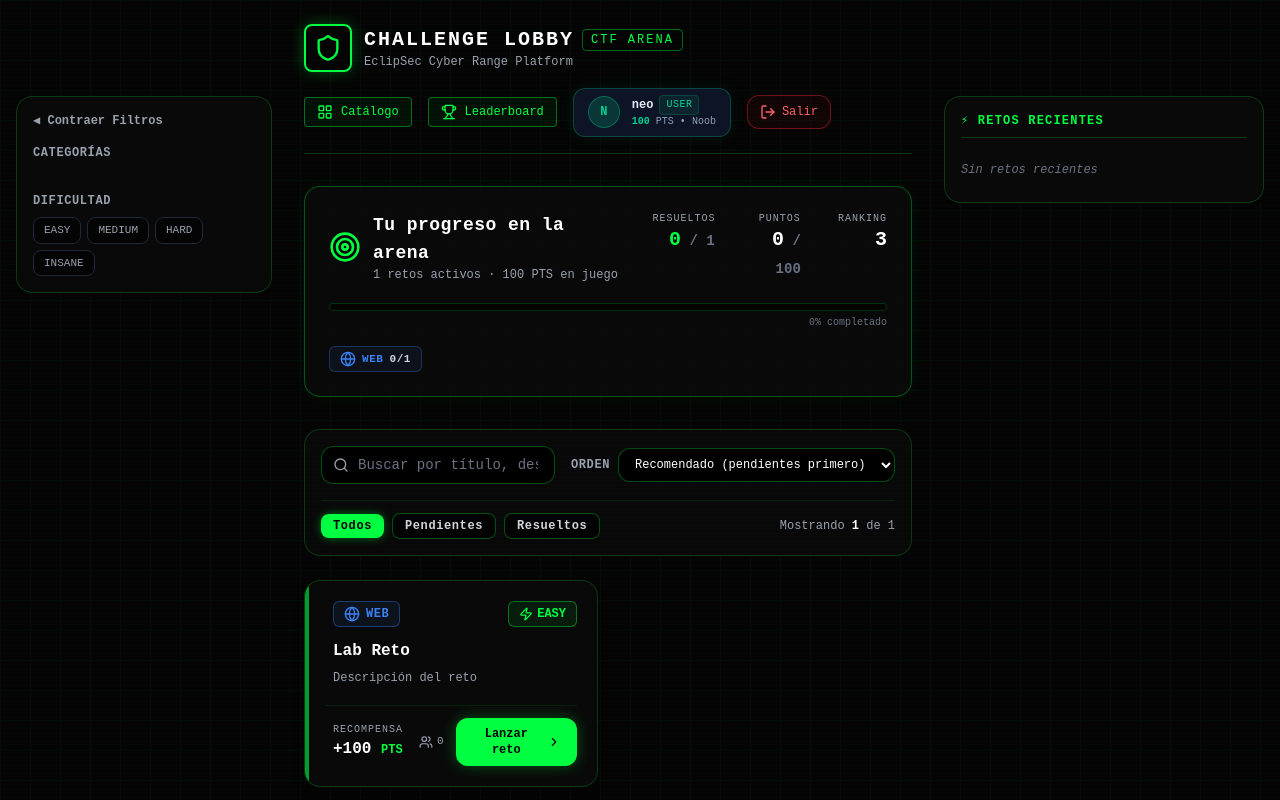
Test: CTFLobby page › does not render a broken link when target_url is relative (backend base URL not configured)
The image size is (1280, 800).
Expected: the heading "Lab Reto" is shown, top-left (333, 642), bottom-right (410, 660)
Click the button "Lanzar reto" at point(516, 742), box top-left (456, 718), bottom-right (577, 766)
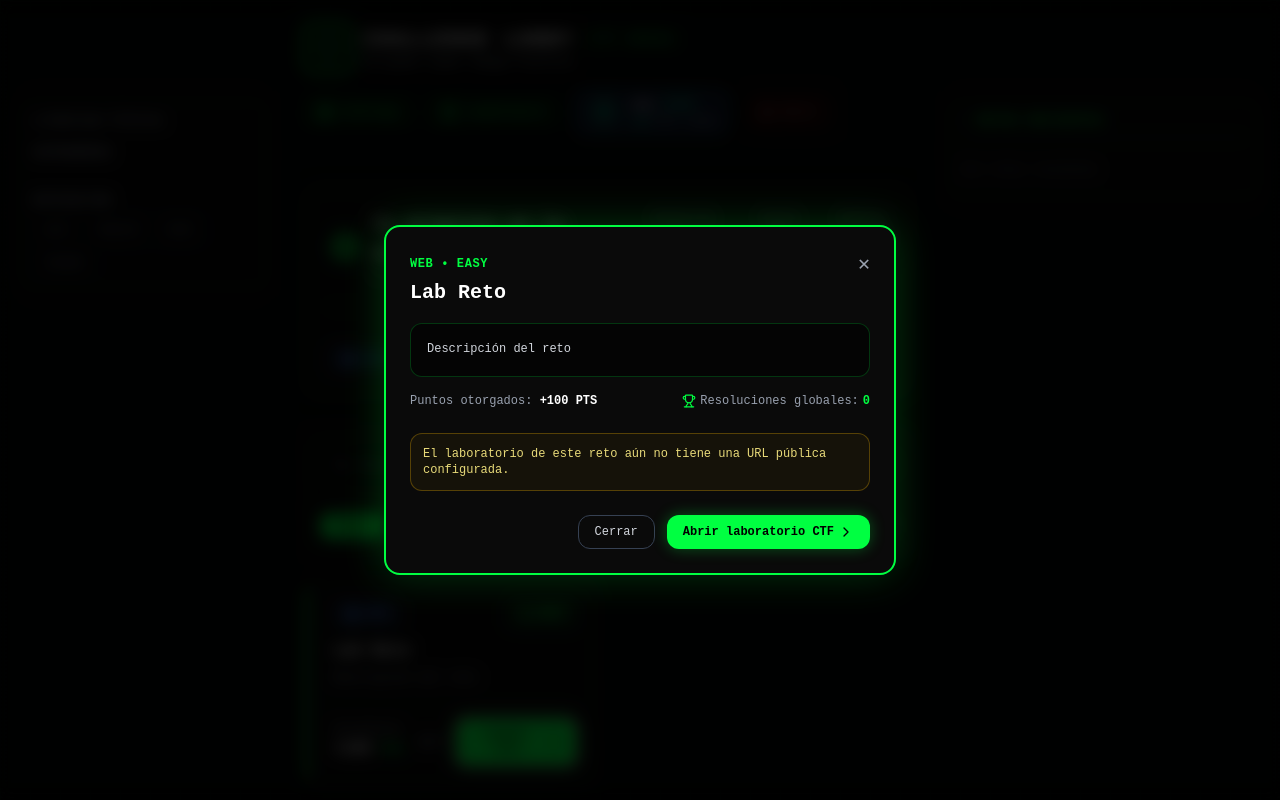
Now the message shows "URL pública", box top-left (423, 447), bottom-right (826, 477)
